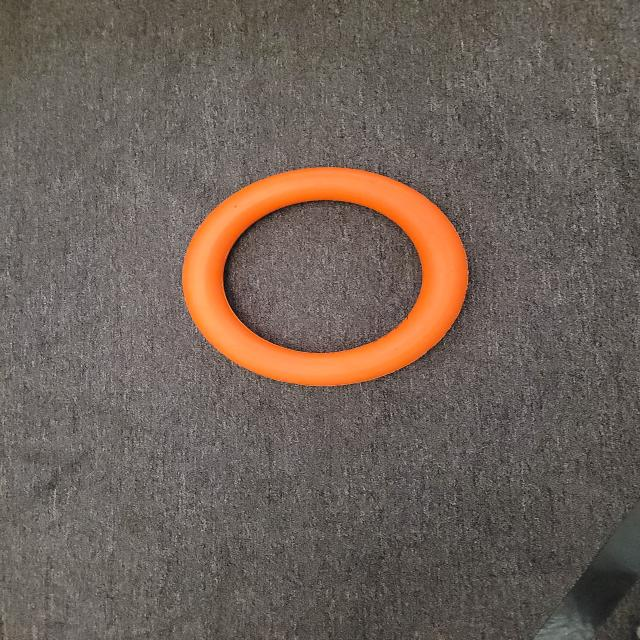note: (182, 156, 472, 391)
